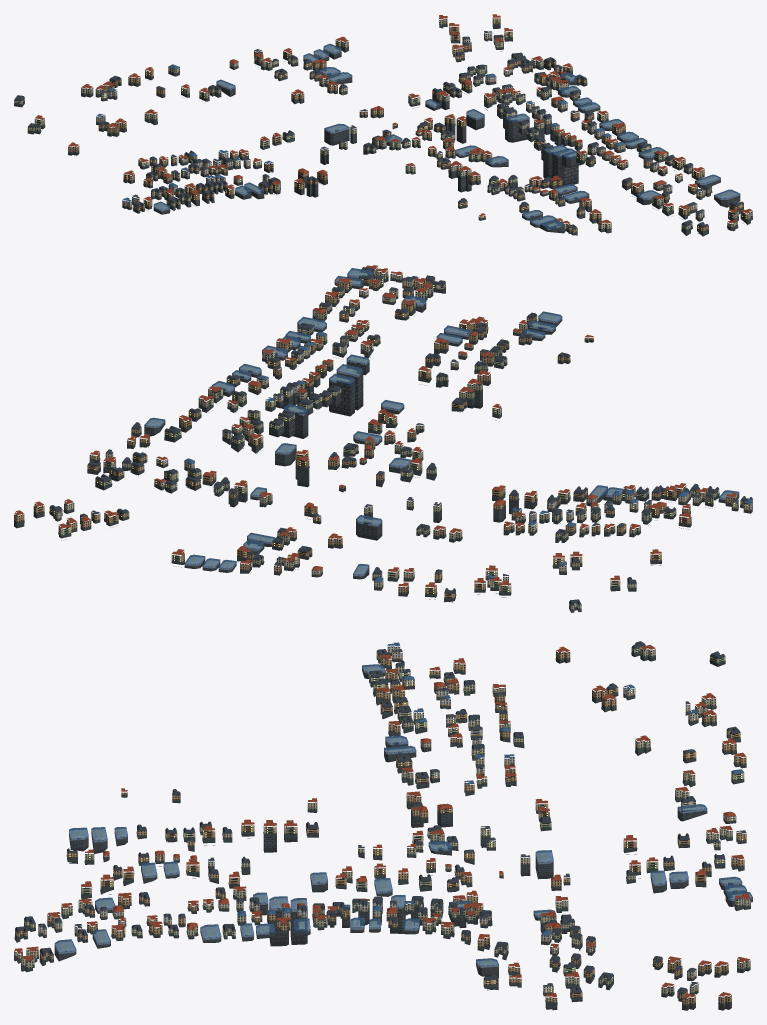
The model's file is osm_buildings_T_W02_N00_Q4.glb.
The picture shows the model from 3 angles, top to bottom: view 1: azimuth 30°, elevation 25°; view 2: azimuth 150°, elevation 25°; view 3: azimuth 270°, elevation 25°; orthographic projection. The views are drawn at different scales.
Parts seen in each view (by area): view 1: OSM_T_W02_N00_Q4_foundation, OSM_T_W02_N00_Q4_wall_french_ochre, OSM_T_W02_N00_Q4_wall_cream_stucco, OSM_T_W02_N00_Q4_greenhouse_blend, OSM_T_W02_N00_Q4_roof_terracotta, OSM_T_W02_N00_Q4_roof_mansard_slate, OSM_T_W02_N00_Q4_roof_mansard_deck, OSM_T_W02_N00_Q4_wall_warm_white, OSM_T_W02_N00_Q4_roof_mint_metal, OSM_T_W02_N00_Q4_wall_pastel_sand, OSM_T_W02_N00_Q4_window_emissive_warm, OSM_T_W02_N00_Q4_balcony_railing (+2 smaller); view 2: OSM_T_W02_N00_Q4_foundation, OSM_T_W02_N00_Q4_wall_french_ochre, OSM_T_W02_N00_Q4_wall_cream_stucco, OSM_T_W02_N00_Q4_greenhouse_blend, OSM_T_W02_N00_Q4_roof_terracotta, OSM_T_W02_N00_Q4_roof_mansard_slate, OSM_T_W02_N00_Q4_roof_mansard_deck, OSM_T_W02_N00_Q4_roof_mint_metal, OSM_T_W02_N00_Q4_wall_warm_white, OSM_T_W02_N00_Q4_wall_pastel_sand, OSM_T_W02_N00_Q4_trim_cornice, OSM_T_W02_N00_Q4_balcony_railing (+2 smaller); view 3: OSM_T_W02_N00_Q4_foundation, OSM_T_W02_N00_Q4_wall_french_ochre, OSM_T_W02_N00_Q4_wall_cream_stucco, OSM_T_W02_N00_Q4_greenhouse_blend, OSM_T_W02_N00_Q4_roof_terracotta, OSM_T_W02_N00_Q4_roof_mansard_slate, OSM_T_W02_N00_Q4_roof_mansard_deck, OSM_T_W02_N00_Q4_wall_warm_white, OSM_T_W02_N00_Q4_trim_cornice, OSM_T_W02_N00_Q4_roof_mint_metal, OSM_T_W02_N00_Q4_wall_pastel_sand, OSM_T_W02_N00_Q4_window_emissive_warm (+2 smaller).
Part boxes in pixels (x1,y1,x2,y2): OSM_T_W02_N00_Q4_foundation: [14, 22, 752, 236]; OSM_T_W02_N00_Q4_wall_french_ochre: [68, 17, 743, 232]; OSM_T_W02_N00_Q4_wall_cream_stucco: [14, 16, 752, 229]; OSM_T_W02_N00_Q4_greenhouse_blend: [153, 43, 740, 229]; OSM_T_W02_N00_Q4_roof_terracotta: [35, 14, 752, 223]; OSM_T_W02_N00_Q4_roof_mansard_slate: [14, 31, 743, 229]; OSM_T_W02_N00_Q4_roof_mansard_deck: [15, 34, 742, 229]; OSM_T_W02_N00_Q4_wall_warm_white: [96, 33, 697, 210]; OSM_T_W02_N00_Q4_roof_mint_metal: [14, 24, 752, 234]; OSM_T_W02_N00_Q4_wall_pastel_sand: [122, 62, 705, 218]; OSM_T_W02_N00_Q4_window_emissive_warm: [36, 19, 746, 228]; OSM_T_W02_N00_Q4_balcony_railing: [23, 19, 745, 235]; OSM_T_W02_N00_Q4_foundation: [14, 274, 752, 612]; OSM_T_W02_N00_Q4_wall_french_ochre: [14, 270, 752, 598]; OSM_T_W02_N00_Q4_wall_cream_stucco: [58, 267, 719, 609]; OSM_T_W02_N00_Q4_greenhouse_blend: [144, 268, 739, 576]; OSM_T_W02_N00_Q4_roof_terracotta: [14, 265, 736, 587]; OSM_T_W02_N00_Q4_roof_mansard_slate: [50, 267, 752, 605]; OSM_T_W02_N00_Q4_roof_mansard_deck: [51, 267, 750, 603]; OSM_T_W02_N00_Q4_roof_mint_metal: [15, 275, 743, 610]; OSM_T_W02_N00_Q4_wall_warm_white: [53, 280, 738, 584]; OSM_T_W02_N00_Q4_wall_pastel_sand: [154, 277, 752, 574]; OSM_T_W02_N00_Q4_trim_cornice: [15, 271, 751, 607]; OSM_T_W02_N00_Q4_balcony_railing: [22, 269, 743, 602]; OSM_T_W02_N00_Q4_foundation: [14, 652, 752, 1010]; OSM_T_W02_N00_Q4_wall_french_ochre: [15, 649, 746, 1005]; OSM_T_W02_N00_Q4_wall_cream_stucco: [14, 645, 750, 994]; OSM_T_W02_N00_Q4_greenhouse_blend: [54, 664, 752, 967]; OSM_T_W02_N00_Q4_roof_terracotta: [14, 645, 750, 998]; OSM_T_W02_N00_Q4_roof_mansard_slate: [15, 642, 746, 994]; OSM_T_W02_N00_Q4_roof_mansard_deck: [16, 641, 752, 991]; OSM_T_W02_N00_Q4_wall_warm_white: [54, 652, 698, 993]; OSM_T_W02_N00_Q4_trim_cornice: [14, 646, 750, 1003]; OSM_T_W02_N00_Q4_roof_mint_metal: [14, 651, 750, 1005]; OSM_T_W02_N00_Q4_wall_pastel_sand: [38, 645, 736, 954]; OSM_T_W02_N00_Q4_window_emissive_warm: [61, 649, 742, 991].
Bounding box in the file's own units: 996 × 105 × 998.
16 materials, 16 textured.
